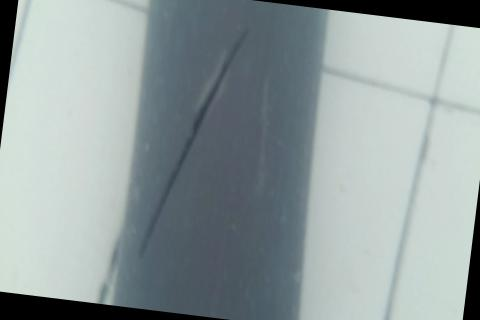keretakan: (135, 16, 250, 273)
